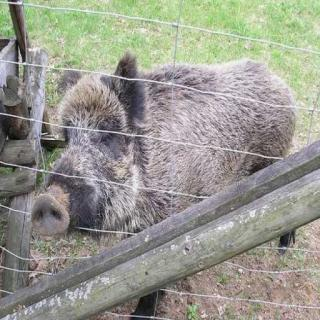Pig: (39, 42, 306, 247)
